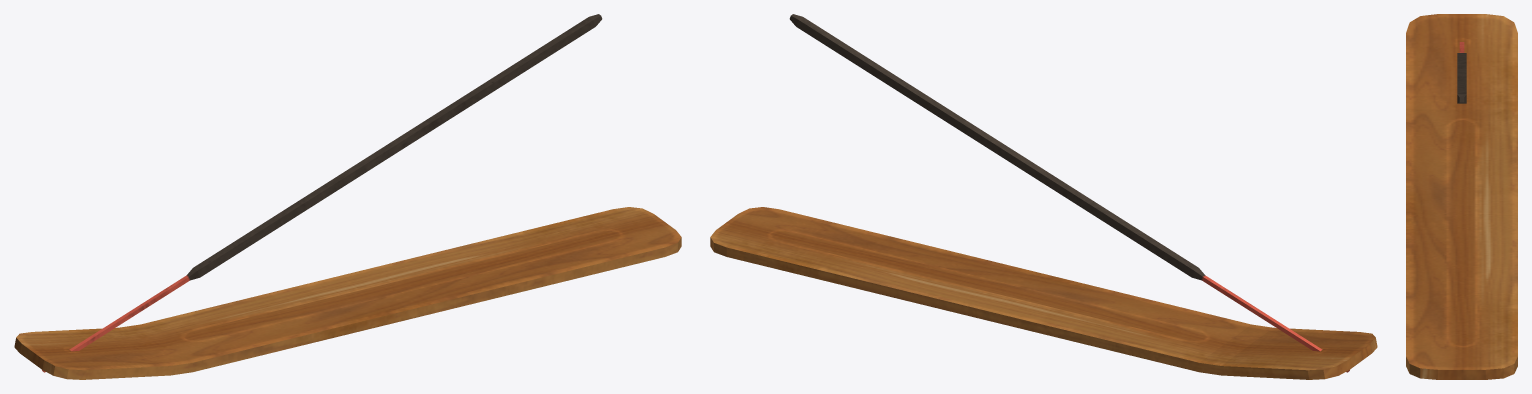
File: SM_Souvenirs01L.FBX
3 renders of one model, left to right at view 1: azimuth 30°, elevation 25°; view 2: azimuth 150°, elevation 25°; view 3: azimuth 270°, elevation 25°, orthographic. The views are drawn at different scales.
Visible parts, largest first — view 1: SM_Souvenirs01L_LOD0; view 2: SM_Souvenirs01L_LOD0; view 3: SM_Souvenirs01L_LOD0.
Part boxes in pixels (box(x1,y1,x2,y2)): SM_Souvenirs01L_LOD0: box(14, 14, 681, 379); SM_Souvenirs01L_LOD0: box(710, 14, 1377, 379); SM_Souvenirs01L_LOD0: box(1406, 14, 1517, 379).
Size of the model in its own units: 35.46 by 5.07 by 12.43.
